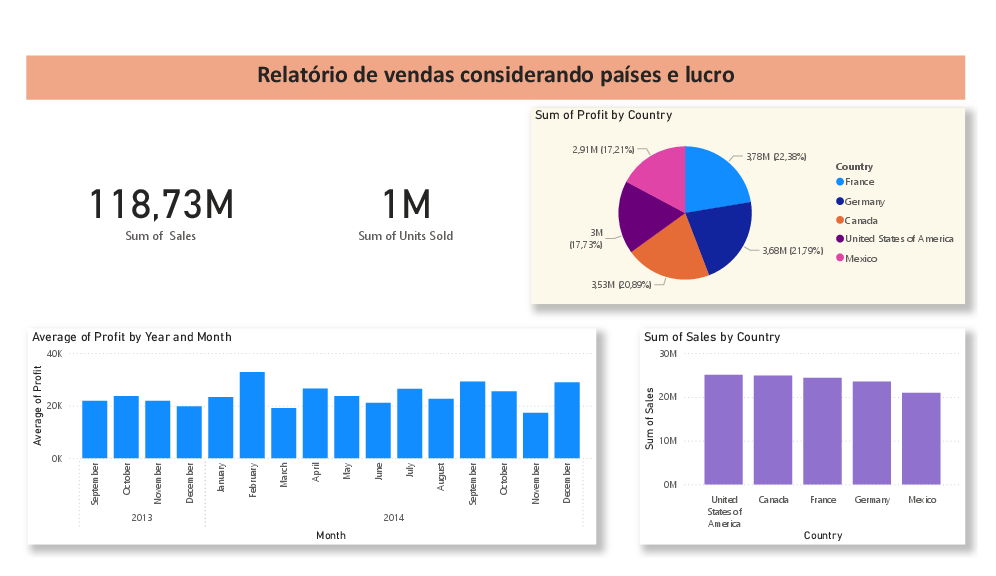

The page's visual inventory and layout, read from the dashboard file:
{"tool":"powerbi","page":{"name":"Page 2","canvas":[1280,720],"ordinal":1},"visuals":[{"type":"textbox","box":[10.7,50,1252.6,59.5],"z":0},{"type":"card","fields":{"Values":["Sum(financials. Sales)"]},"box":[26.2,176.1,328.3,149.9],"z":1000},{"type":"card","fields":{"Values":["Sum(financials.Units Sold)"]},"box":[374.7,176.1,283.1,149.9],"z":2000},{"type":"pieChart","fields":{"Y":["Sum(financials.Profit)"],"Category":["financials.Country"]},"box":[684,119,579.3,262.9],"z":3000},{"type":"clusteredColumnChart","fields":{"Y":["Avg(financials.Profit)"],"Category":["financials.Date.Variation.Date Hierarchy.Year","financials.Date.Variation.Date Hierarchy.Month"]},"box":[13.1,414,757.8,287.9],"z":4000},{"type":"clusteredColumnChart","fields":{"Category":["financials.Country"],"Y":["Sum(financials. Sales)"]},"box":[829.1,414,434.2,287.9],"z":5000}]}

Visuals, with their boxes in screenshot pixels (x1, y1, x2, y2), scaled from the page's 1280x720 canvas onto the 996x576 screenshot:
textbox: region(8, 40, 983, 88)
card - Sum(financials. Sales): region(20, 141, 276, 261)
card - Sum(financials.Units Sold): region(292, 141, 512, 261)
pieChart - Sum(financials.Profit) x financials.Country: region(532, 95, 983, 306)
clusteredColumnChart - Avg(financials.Profit) x financials.Date.Variation.Date Hierarchy.Year: region(10, 331, 600, 562)
clusteredColumnChart - financials.Country x Sum(financials. Sales): region(645, 331, 983, 562)
